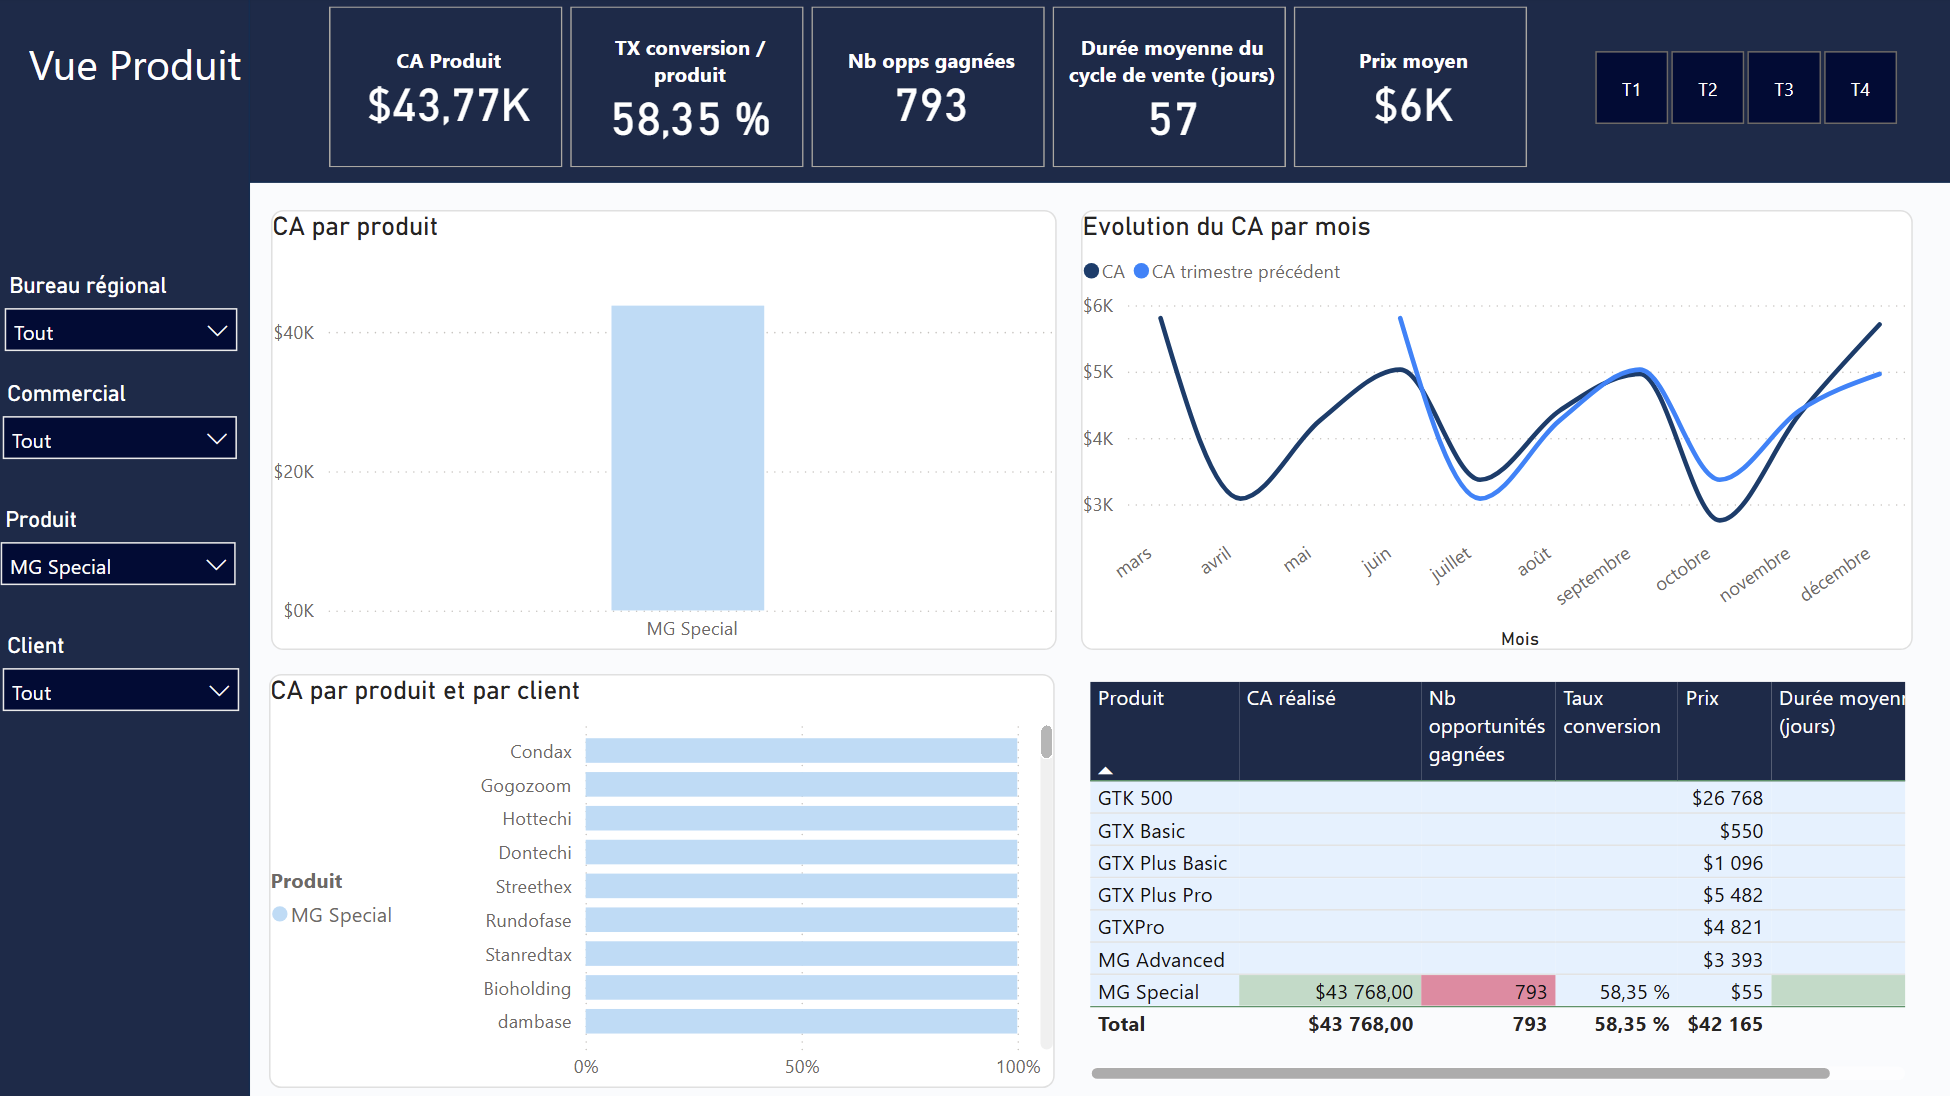

The page's visual inventory and layout, read from the dashboard file:
{"tool":"powerbi","page":{"name":"Produit","canvas":[1280,720],"ordinal":1},"visuals":[{"type":"shape","box":[158.5,0,1121.6,122.9],"z":0},{"type":"shape","box":[0,0,170,718.6],"z":1000},{"type":"slicer","fields":{"Values":["sales_teams.sales_agent"]},"box":[4.4,251.2,162.3,75.4],"z":2000},{"type":"slicer","fields":{"Values":["sales_teams.Bureau régional"]},"box":[5.3,181.2,161.4,58.5],"z":3000},{"type":"slicer","fields":{"Values":["DimCalendar_Close_Date.Trimestre"]},"box":[1025.2,35.7,236.5,51.5],"z":4000},{"type":"slicer","fields":{"Values":["sales_pipeline.product"]},"box":[2.6,333.7,163.2,75.4],"z":6000},{"type":"slicer","fields":{"Values":["sales_pipeline.account"]},"box":[4,414.8,163.8,75.3],"z":7000},{"type":"cardVisual","fields":{"Data":["Mesure.CA","Mesure.Taux_Conversion","Mesure.nb_won_opps","Mesure.Duree_moyenne_cycle","Mesure.Prix moyen"]},"box":[221.9,4,782.1,113.6],"z":8000},{"type":"lineChart","title":"Evolution du CA par mois","fields":{"Category":["DimCalendar_Close_Date.Mois (nom)"],"Y":["Mesure.CA Won","Mesure.CA_Mois_Precedent"]},"box":[710.8,140,541.7,286.7],"z":9000},{"type":"textbox","box":[21.1,22.5,171.7,54.2],"z":11000},{"type":"hundredPercentStackedBarChart","title":"CA par produit et par client","fields":{"Category":["sales_pipeline.account"],"Y":["Mesure.CA"],"Series":["products.product"]},"box":[182.3,442.6,511.3,269.5],"z":12000},{"type":"columnChart","title":"CA par produit","fields":{"Y":["Mesure.CA"],"Category":["products.product"],"Series":["products.product"]},"box":[183.6,140,511.3,286.7],"z":13000},{"type":"tableEx","fields":{"Values":["products.product","Mesure.CA","Mesure.nb_won_opps","Mesure.Taux_Conversion","Sum(products.sales_price)","Mesure.Duree_moyenne_cycle"]},"box":[710.8,442.6,541.7,269.5],"z":13001}]}

Visuals, with their boxes in screenshot pixels (x1, y1, x2, y2), scaled from the page's 1280x720 canvas onto the 1950x1096 screenshot:
shape: {"x1": 241, "y1": 0, "x2": 1949, "y2": 187}
shape: {"x1": 0, "y1": 0, "x2": 259, "y2": 1094}
slicer - sales_teams.sales_agent: {"x1": 7, "y1": 382, "x2": 254, "y2": 497}
slicer - sales_teams.Bureau régional: {"x1": 8, "y1": 276, "x2": 254, "y2": 365}
slicer - DimCalendar_Close_Date.Trimestre: {"x1": 1562, "y1": 54, "x2": 1922, "y2": 133}
slicer - sales_pipeline.product: {"x1": 4, "y1": 508, "x2": 253, "y2": 623}
slicer - sales_pipeline.account: {"x1": 6, "y1": 631, "x2": 256, "y2": 746}
cardVisual - Mesure.CA x Mesure.Taux_Conversion: {"x1": 338, "y1": 6, "x2": 1530, "y2": 179}
"Evolution du CA par mois" lineChart: {"x1": 1083, "y1": 213, "x2": 1908, "y2": 650}
textbox: {"x1": 32, "y1": 34, "x2": 294, "y2": 117}
"CA par produit et par client" hundredPercentStackedBarChart: {"x1": 278, "y1": 674, "x2": 1057, "y2": 1084}
"CA par produit" columnChart: {"x1": 280, "y1": 213, "x2": 1059, "y2": 650}
tableEx - products.product x Mesure.CA: {"x1": 1083, "y1": 674, "x2": 1908, "y2": 1084}
